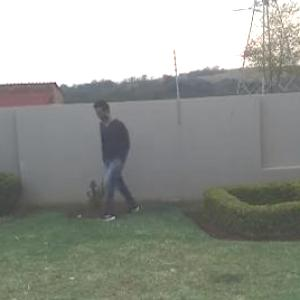follow: (100, 101, 134, 215)
